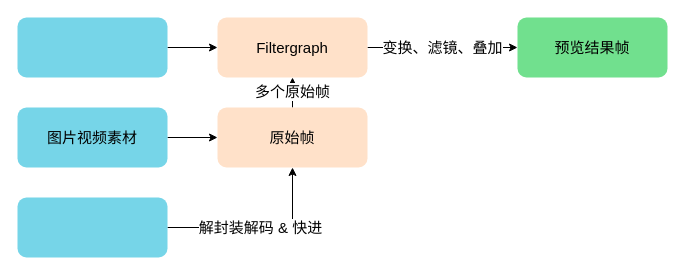
Some shapes in this 684 by 274 pixel diagram are drawn without their labels. The shapes that lost their labels are listed below. From the top down, each one's centre as x and y in pixels, then its label:
(92,47): 合成场景JSON
(92,227): 进度条点击第x秒
